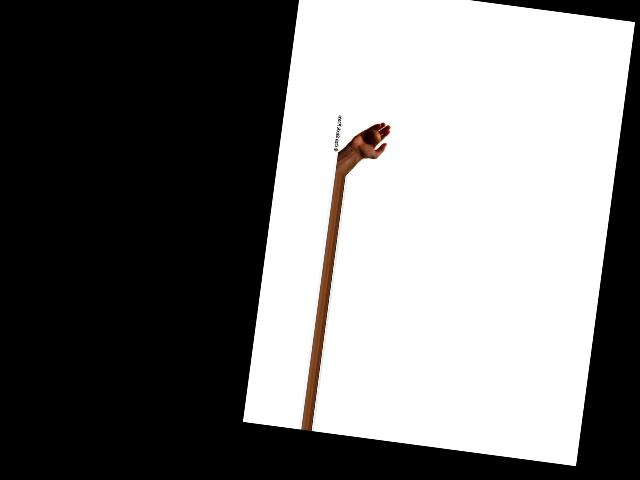egg: (366, 128, 381, 143)
